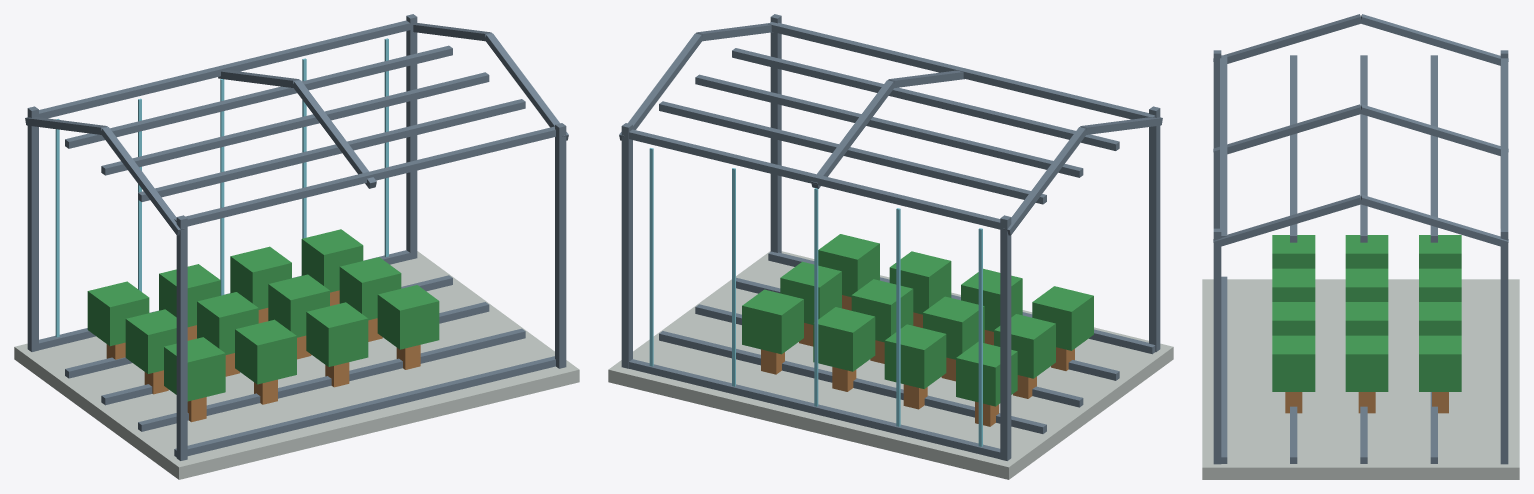
3 renders of one model, left to right at view 1: azimuth 30°, elevation 25°; view 2: azimuth 150°, elevation 25°; view 3: azimuth 270°, elevation 25°, orthographic. The views are drawn at different scales.
Visible parts, largest first — view 1: foundation, plant-cube (×12), frame-rail (×10), square-frame-post (×4), square-beam (×6), glass-panel-joint (×5); view 2: plant-cube (×12), frame-rail (×10), foundation, square-frame-post (×4), square-beam (×6), glass-panel-joint (×5); view 3: foundation, plant-cube (×12), frame-rail (×9), square-beam (×6), square-frame-post (×3), planter (×2).
Boxes of the visible parts, x1,y1,x2,y2 form: foundation: [14, 251, 579, 479]; plant-cube (×12): [87, 229, 439, 401]; frame-rail (×10): [39, 20, 555, 457]; square-frame-post (×4): [27, 14, 566, 460]; square-beam (×6): [25, 23, 568, 235]; glass-panel-joint (×5): [55, 38, 388, 337]; plant-cube (×12): [742, 234, 1093, 406]; frame-rail (×10): [629, 22, 1155, 459]; foundation: [608, 251, 1173, 479]; square-frame-post (×4): [621, 14, 1160, 460]; square-beam (×6): [619, 23, 1162, 235]; glass-panel-joint (×5): [649, 148, 982, 446]; foundation: [1202, 279, 1519, 479]; plant-cube (×12): [1272, 235, 1461, 391]; frame-rail (×9): [1220, 55, 1508, 463]; square-beam (×6): [1213, 14, 1508, 247]; square-frame-post (×3): [1213, 50, 1508, 464]; planter (×2): [1285, 392, 1375, 413].
Bounding box in the file's own units: 7.3 × 5.06 × 5.2.
